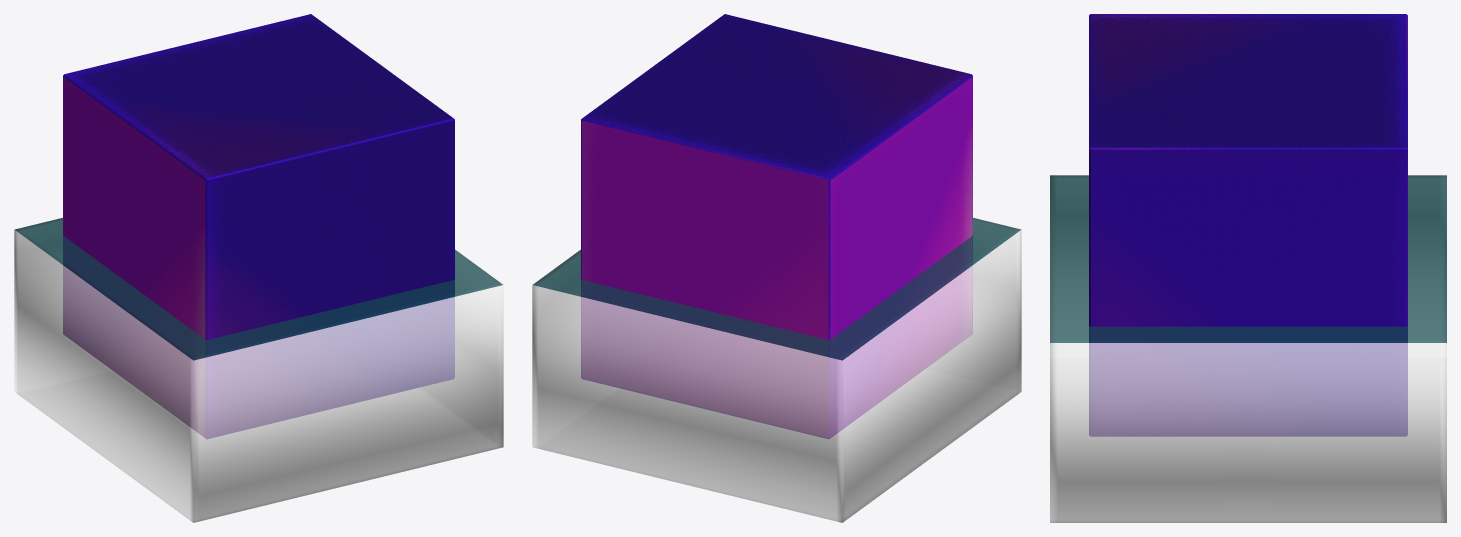
3 renders of one model, left to right at view 1: azimuth 30°, elevation 25°; view 2: azimuth 150°, elevation 25°; view 3: azimuth 270°, elevation 25°, orthographic. The views are drawn at different scales.
Parts seen in each view (by area): view 1: 立方体.006_Baked, 平面_primitive0, 平面_primitive1; view 2: 立方体.006_Baked, 平面_primitive0, 平面_primitive1; view 3: 立方体.006_Baked, 平面_primitive0, 平面_primitive1.
Part boxes in pixels (x1,y1,x2,y2): 立方体.006_Baked: (63, 14, 454, 438); 平面_primitive0: (14, 218, 503, 522); 平面_primitive1: (14, 218, 502, 360); 立方体.006_Baked: (581, 14, 972, 438); 平面_primitive0: (532, 218, 1021, 522); 平面_primitive1: (533, 218, 1021, 360); 立方体.006_Baked: (1089, 14, 1407, 436); 平面_primitive0: (1050, 176, 1446, 522); 平面_primitive1: (1050, 175, 1446, 342).
Bounding box in the file's own units: 8.54 × 8.51 × 8.54.
Materials: 8 (6 with a texture image).
